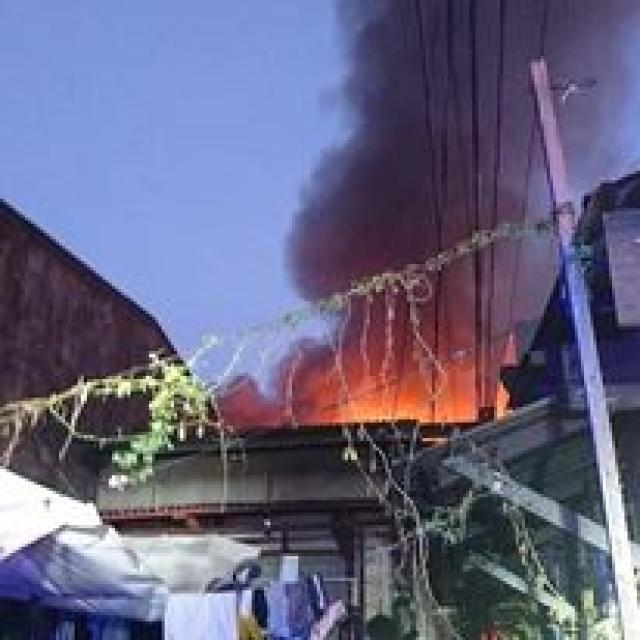Fire: (270, 343, 502, 419)
Smoke: (326, 0, 549, 329)
